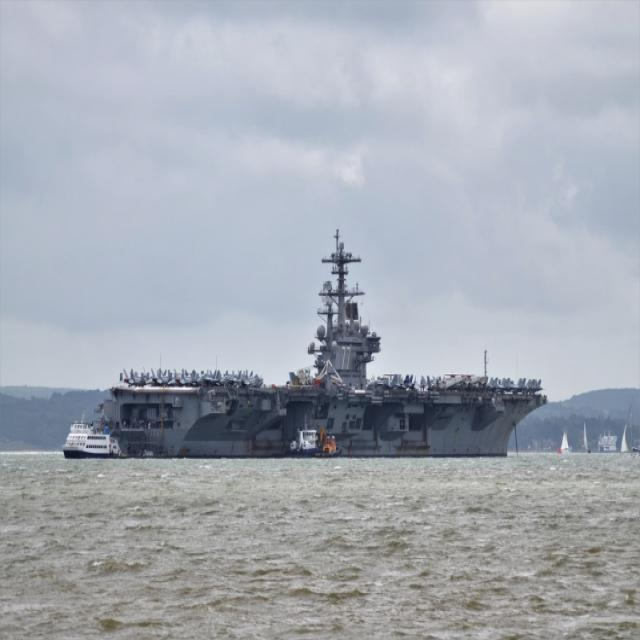Portanaves: (93, 229, 551, 454)
